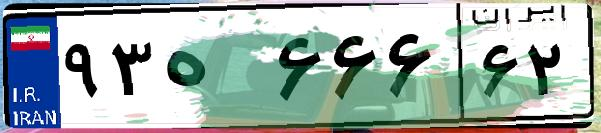2: (525, 38, 570, 115)
3: (110, 28, 158, 98)
6: (270, 28, 330, 110), (385, 28, 445, 110), (330, 28, 385, 110), (475, 38, 525, 113)
9: (57, 26, 110, 100)
ه: (158, 20, 270, 120)
